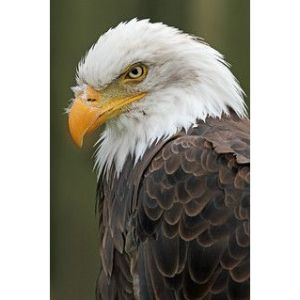eagle: (61, 18, 248, 298)
